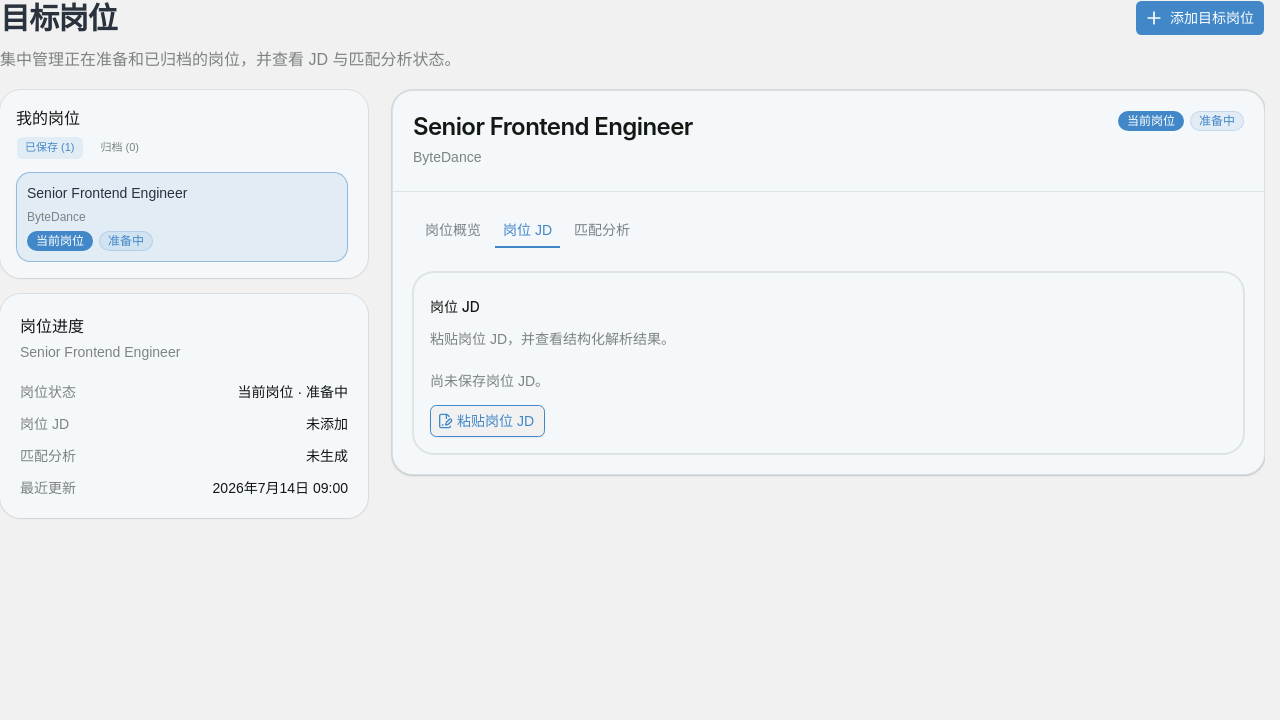
Test case: RolesView › opens an empty paste form for a missing job description
The width and height of the screenshot is (1280, 720).
Click the button "粘贴岗位 JD": {"x": 488, "y": 420} [430, 404, 545, 436]
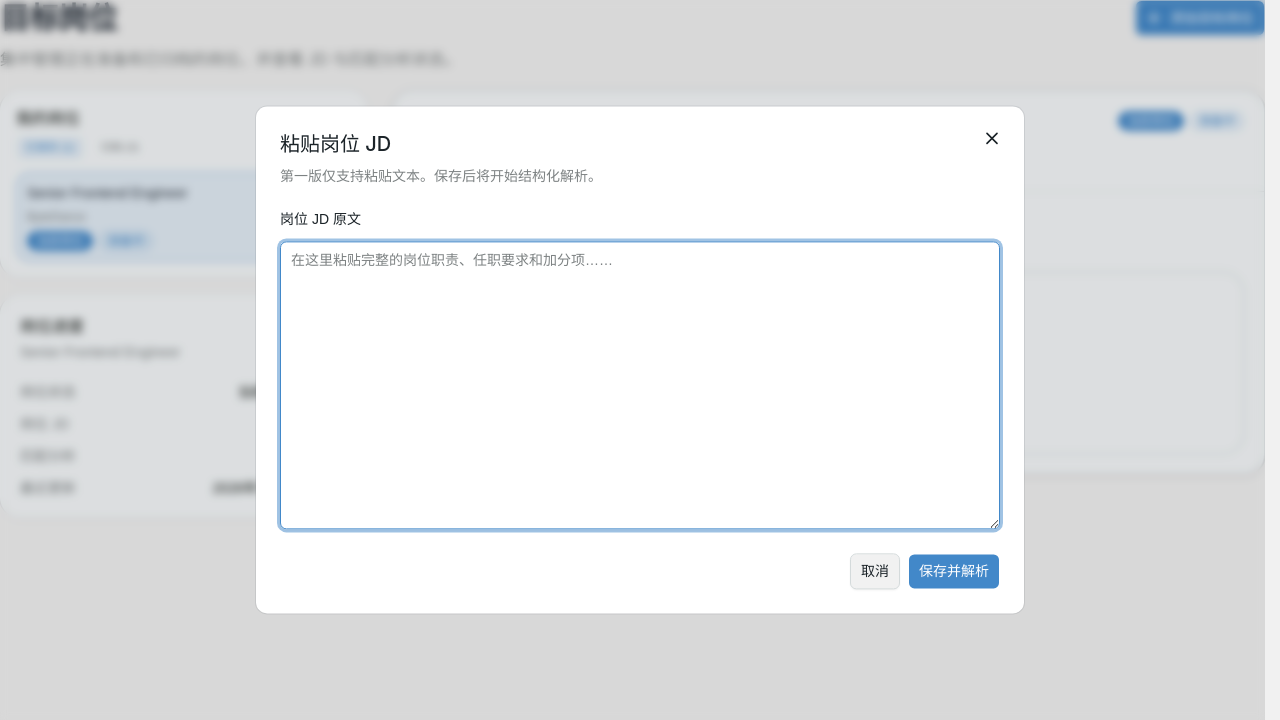
Expected: the text box labelled "岗位 JD 原文" is empty, [280, 242, 1000, 530]
Click the button "保存并解析": {"x": 954, "y": 572} [908, 554, 1000, 590]
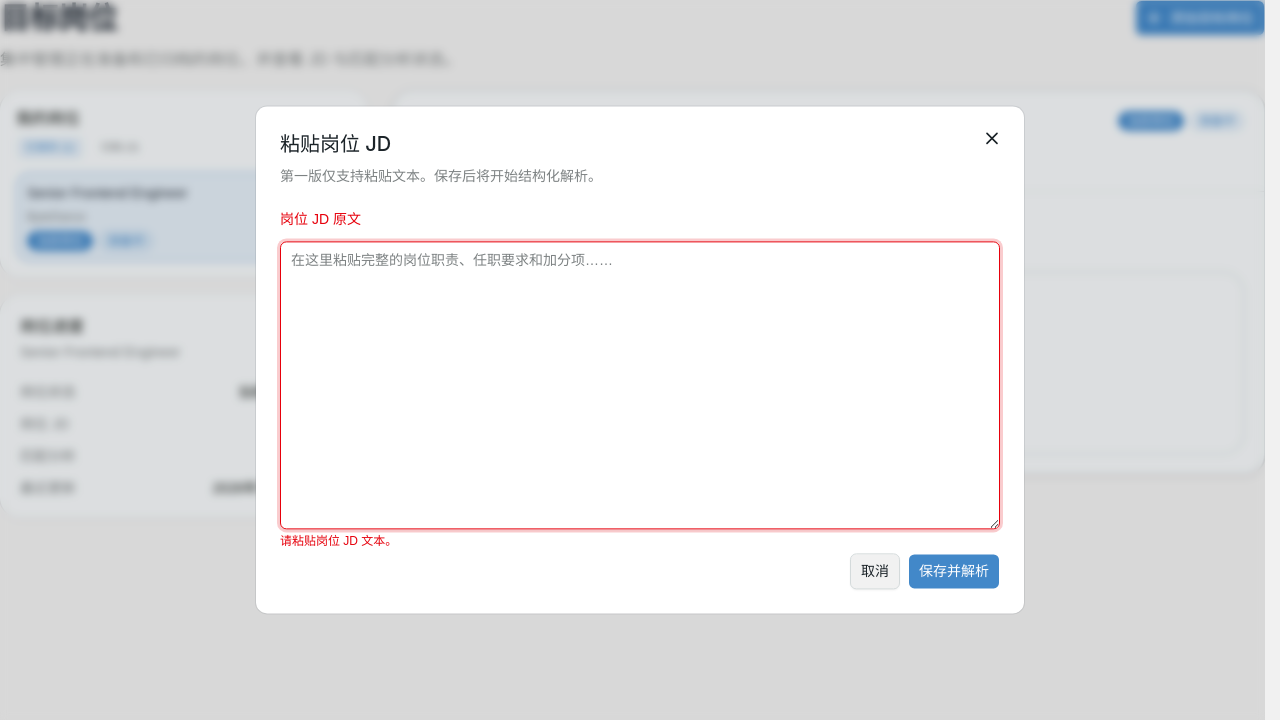
Expected: the text "请粘贴岗位 JD 文本。" is shown, [280, 535, 397, 549]
